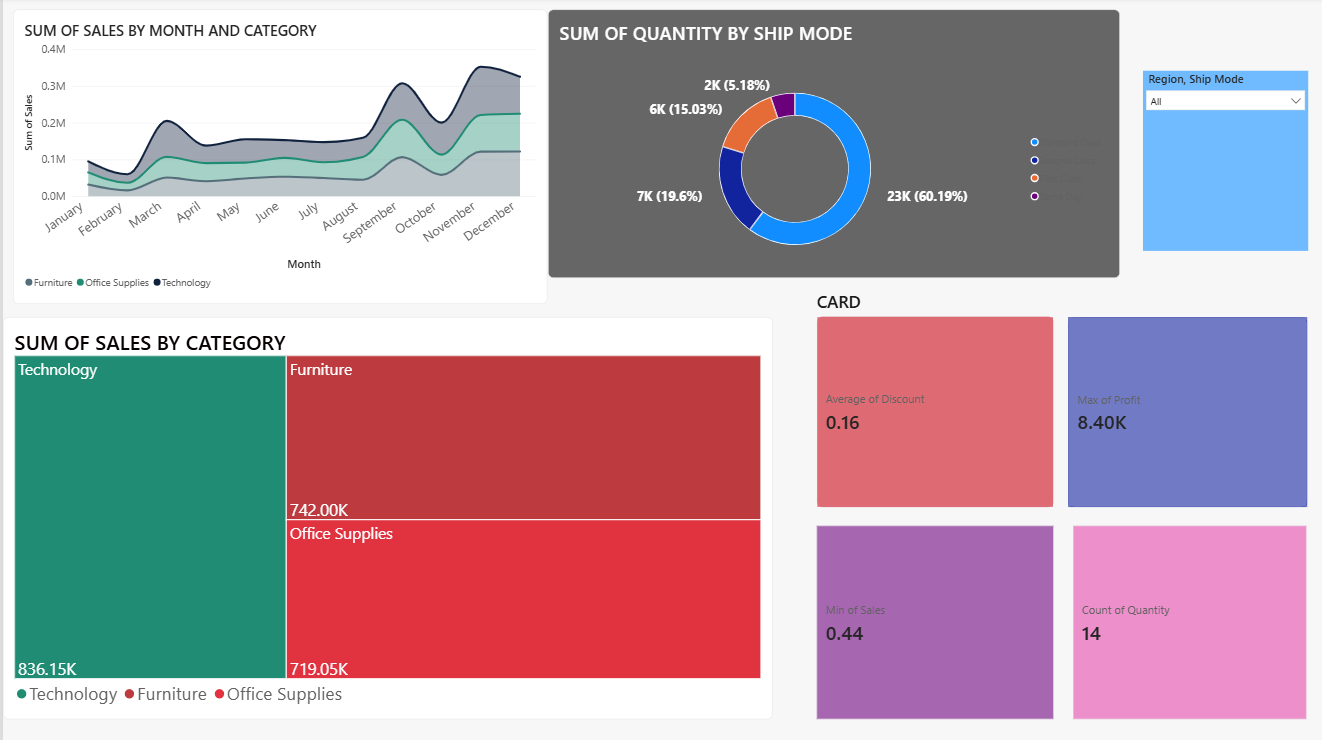

What the dashboard file says about the page in this screenshot:
{"tool":"powerbi","page":{"name":"SALES ANALYSIS DASHBOARD","canvas":[1920,1080],"ordinal":4},"visuals":[{"type":"cardVisual","title":"CARD","fields":{"Data":["Avg(orders (1).Discount)"]},"box":[1177.4,424.8,343.5,314.7],"z":0},{"type":"cardVisual","fields":{"Data":["Max(orders (1).Profit)"]},"box":[1541.9,464.1,346.1,275.3],"z":1000},{"type":"cardVisual","fields":{"Data":["Min(orders (1).Sales)"]},"box":[1177.4,765.7,343.5,280.6],"z":2000},{"type":"cardVisual","fields":{"Data":["Count(orders (1).Quantity)"]},"box":[1549.8,765.7,338.3,280.6],"z":3000},{"type":"treemap","title":"SUM OF SALES BY CATEGORY","fields":{"Values":["Sum(orders (1).Sales)"],"Group":["orders (1).Category","orders (1).Sub-Category"]},"box":[0,464.1,1114.5,582.1],"z":4000},{"type":"stackedAreaChart","title":"SUM OF SALES  BY MONTH AND CATEGORY","fields":{"Category":["orders (1).Order Date.Variation.Date Hierarchy.Month"],"Y":["Sum(orders (1).Sales)"],"Series":["orders (1).Category"]},"box":[15.2,17.4,773.9,426.1],"z":5000},{"type":"slicer","fields":{"Values":["orders (1).Ship Mode"]},"box":[1650,106.5,239.1,260.9],"z":6000},{"type":"donutChart","title":"SUM OF QUANTITY BY SHIP MODE","fields":{"Category":["orders (1).Ship Mode"],"Y":["Sum(orders (1).Quantity)"]},"box":[789.1,17.4,828.3,389.1],"z":7000}]}

Visuals, with their boxes in screenshot pixels (x1, y1, x2, y2), scaled from the page's 1920x1080 canvas onto the 1322x740 screenshot:
"CARD" cardVisual: box=[811, 291, 1047, 507]
cardVisual - Max(orders (1).Profit): box=[1062, 318, 1300, 507]
cardVisual - Min(orders (1).Sales): box=[811, 525, 1047, 717]
cardVisual - Count(orders (1).Quantity): box=[1067, 525, 1300, 717]
"SUM OF SALES BY CATEGORY" treemap: box=[0, 318, 767, 717]
"SUM OF SALES  BY MONTH AND CATEGORY" stackedAreaChart: box=[10, 12, 543, 304]
slicer - orders (1).Ship Mode: box=[1136, 73, 1301, 252]
"SUM OF QUANTITY BY SHIP MODE" donutChart: box=[543, 12, 1114, 279]
